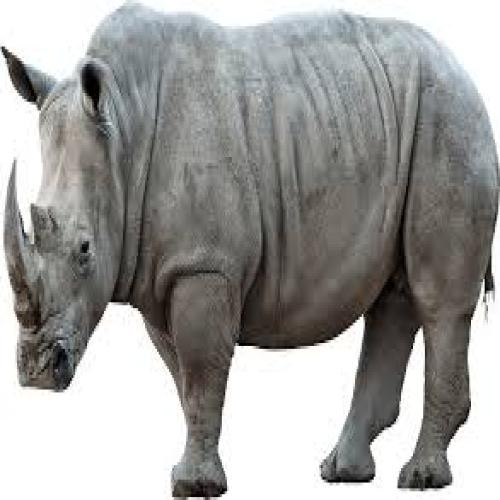rhino-endangered: (4, 12, 496, 499)
